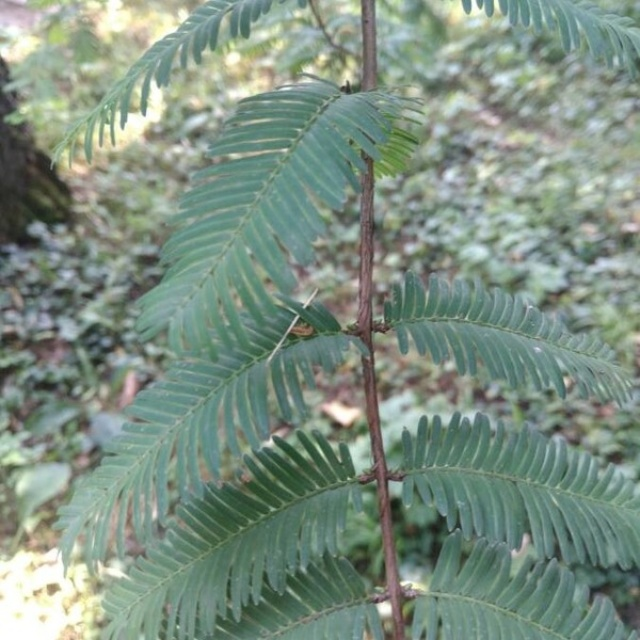obstacle: (193, 49, 613, 630)
